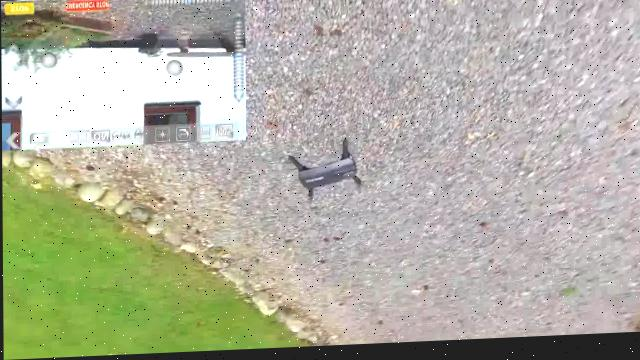drone: (262, 132, 386, 220)
